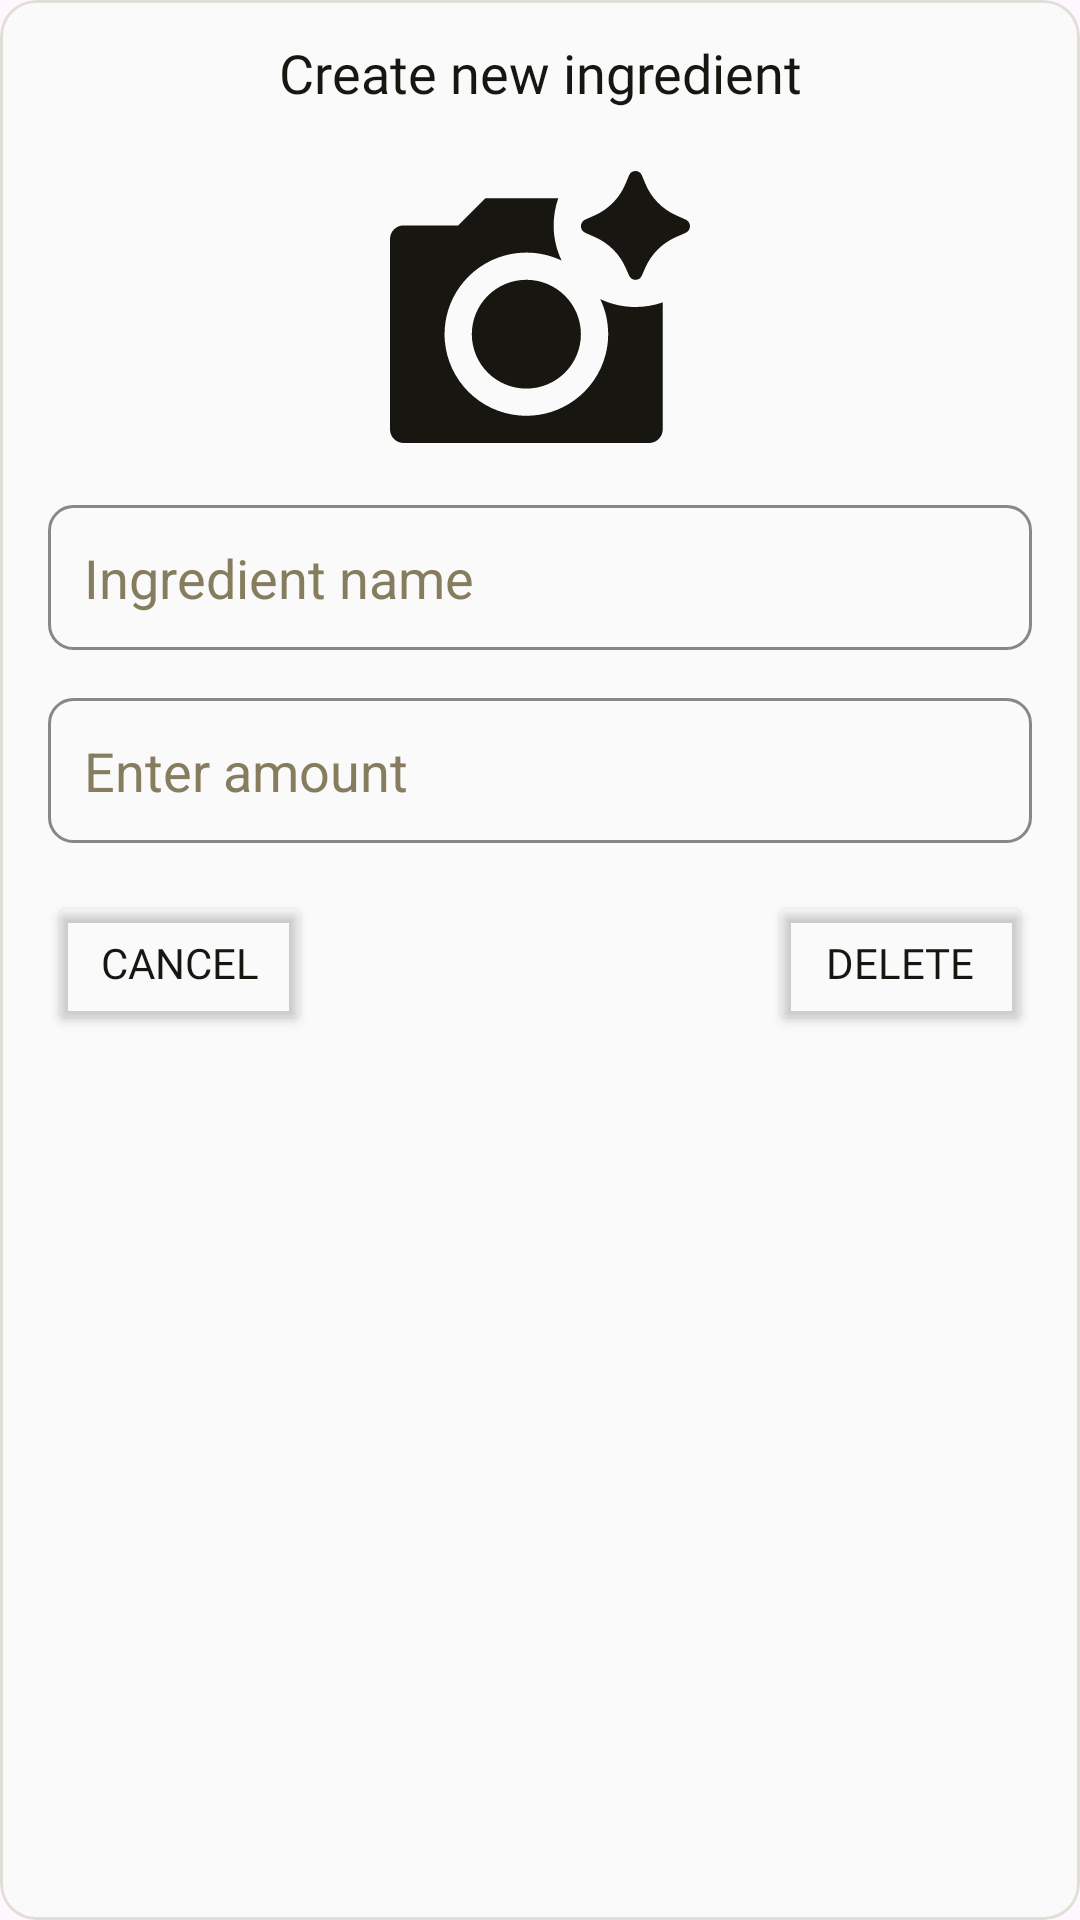

Point at icon controls on the screen. Image size 1080*1920, points as (x,y).
camera: (540,307)
